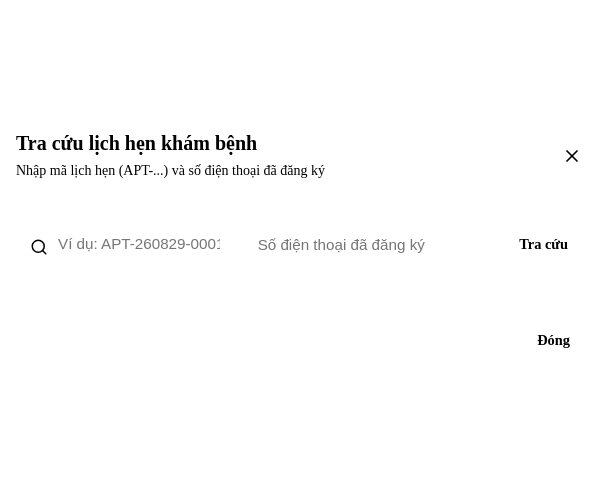
Test case: AppointmentLookupModal with the real response interceptor › shows the Vietnamese message when the lookup API returns an empty 429 response
Type "APT-1234" into the field named "Mã lịch hẹn" at [125, 244], box [16,225,234,262]
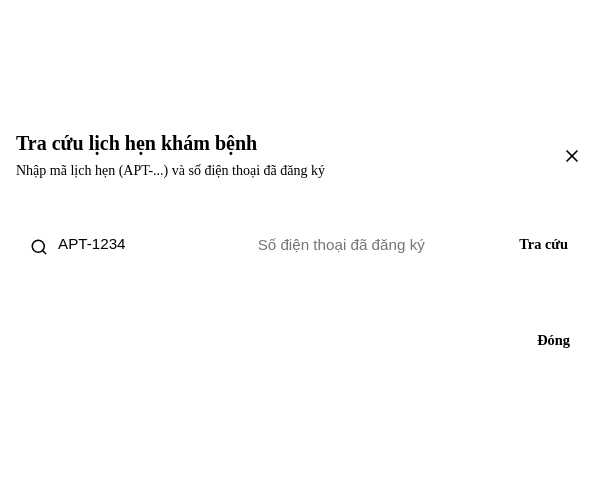
Type "0901234567" into the field named "Số điện thoại chủ lịch hẹn" at [366, 244], box [244,225,489,263]
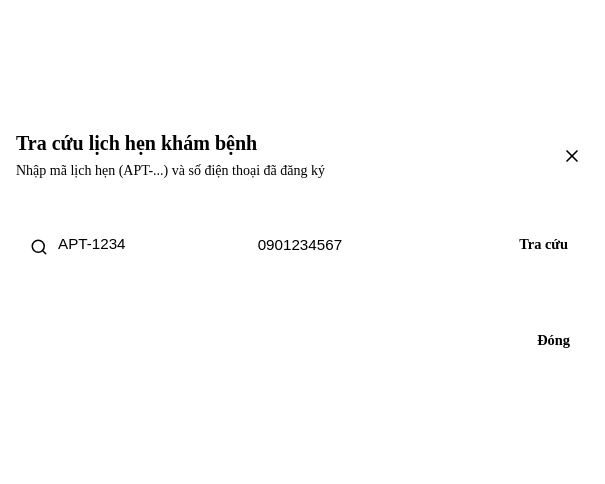
Click the button "Tra cứu" at [544, 244], box [499,225,588,263]
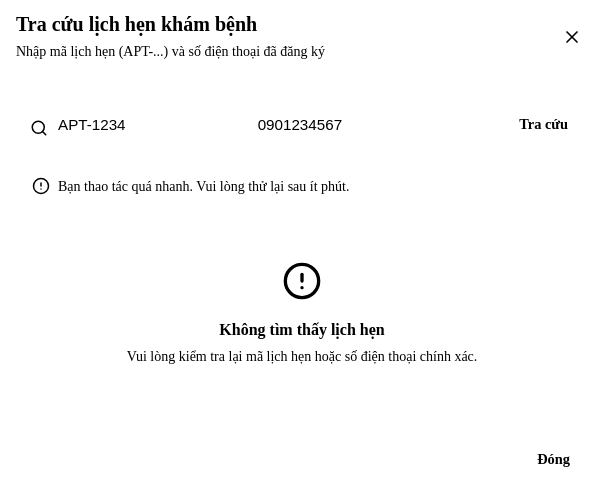
Expected: the text "Bạn thao tác quá nhanh. Vui lòng thử lại sau ít phút." is shown, [58,176,350,196]
